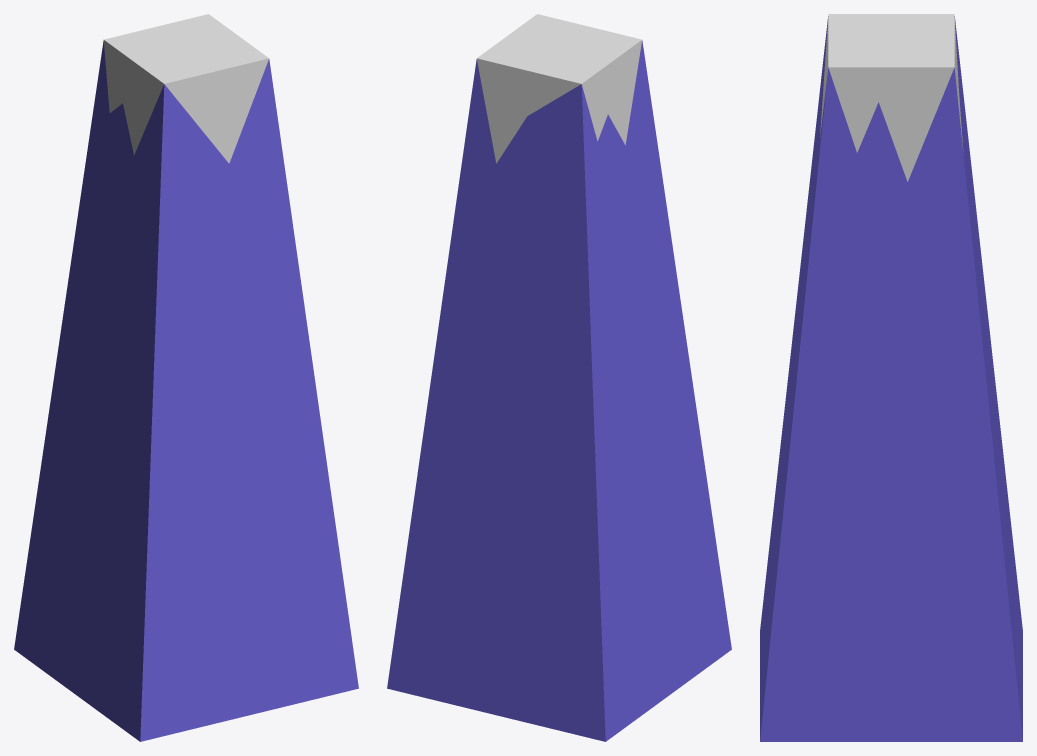
File: Mountain.fbx
The picture shows the model from 3 angles, left to right: view 1: azimuth 30°, elevation 25°; view 2: azimuth 150°, elevation 25°; view 3: azimuth 270°, elevation 25°; orthographic projection. The views are drawn at different scales.
Visible parts, largest first — view 1: Cube; view 2: Cube; view 3: Cube.
Part boxes in pixels (bbox=[...]): Cube: bbox=[14, 14, 358, 741]; Cube: bbox=[387, 14, 731, 741]; Cube: bbox=[760, 14, 1022, 741].
Bounding box in the file's own units: 200 × 542 × 200.
